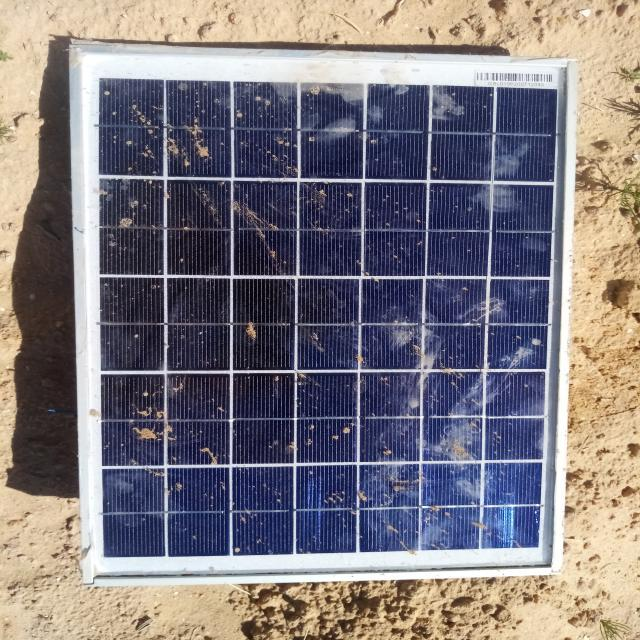faulty: (77, 50, 572, 583)
